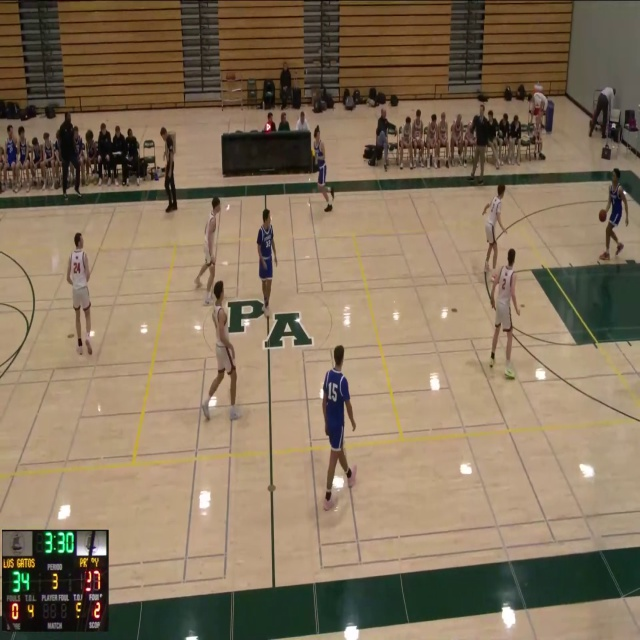Basketball: (599, 209, 606, 222)
